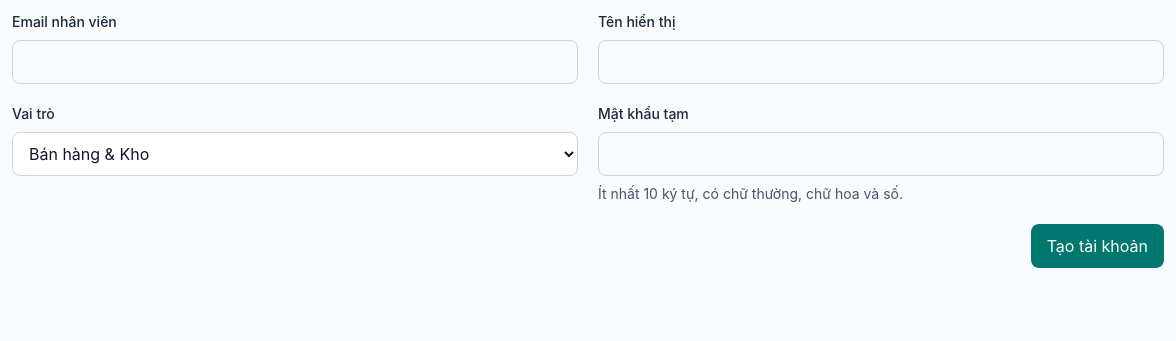
Test: StaffForm › shows the safe actionable message returned by the staff API
The image size is (1176, 341).
Type "nv@example.com" into the field labelled "Email nhân viên". click: (295, 62)
box: [12,40,578,84]
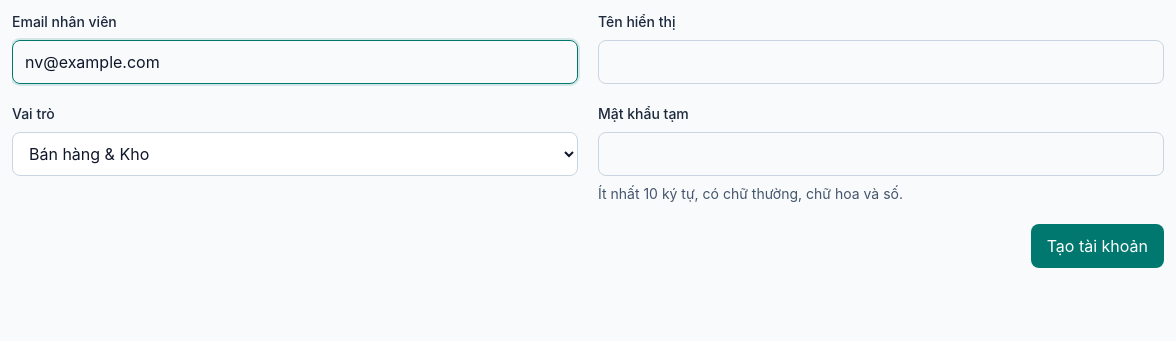
Type "Nhân viên A" into the field labelled "Tên hiển thị". click: (881, 62)
box: [598,40,1164,84]
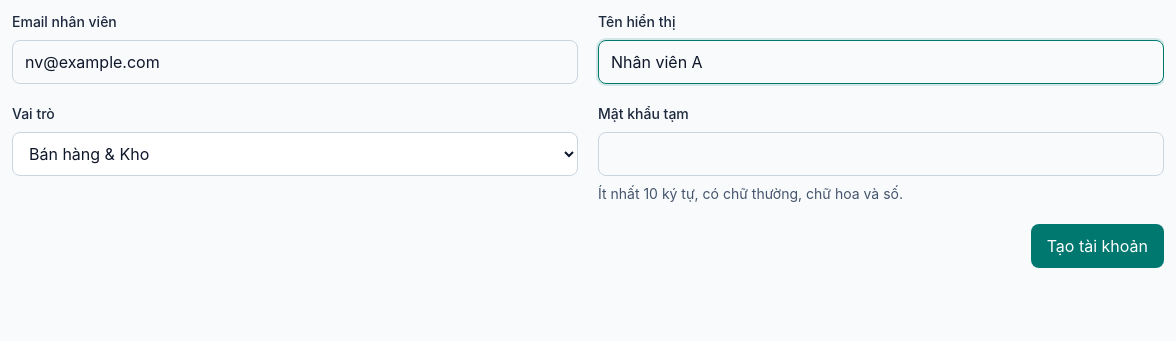
Type "Matkhau123" into the password field labelled "Mật khẩu tạm". click: (881, 154)
box: [598,132,1164,176]
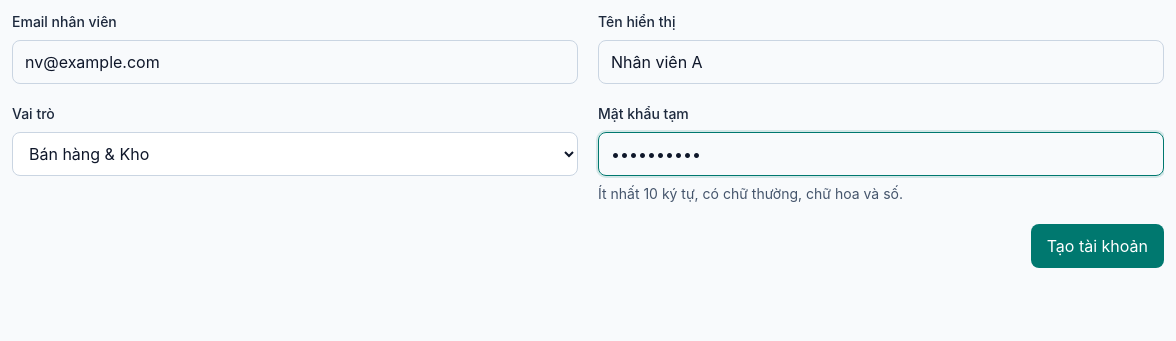
Click the button "Tạo tài khoản". click: (1097, 246)
box: [1031,224,1164,268]
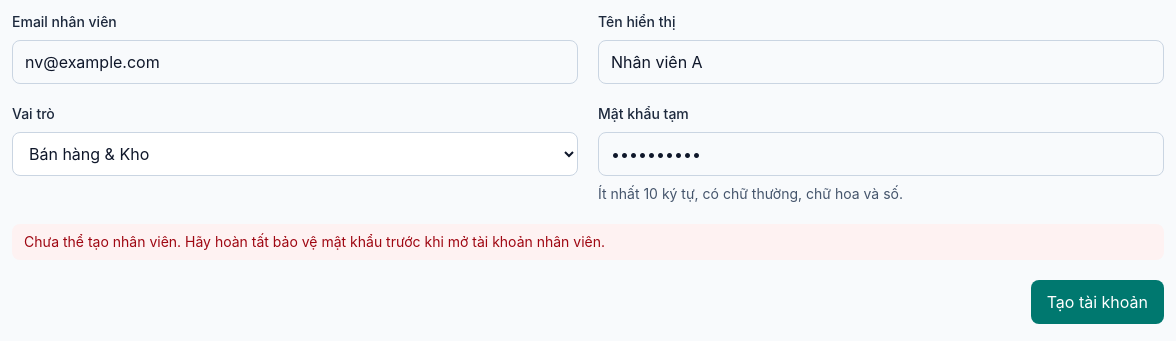
Check: the message shows "Chưa thể tạo nhân viên. Hãy hoàn tất bảo vệ mật khẩu trước khi mở tài khoản nhân viên.", box [24,233,605,250]
